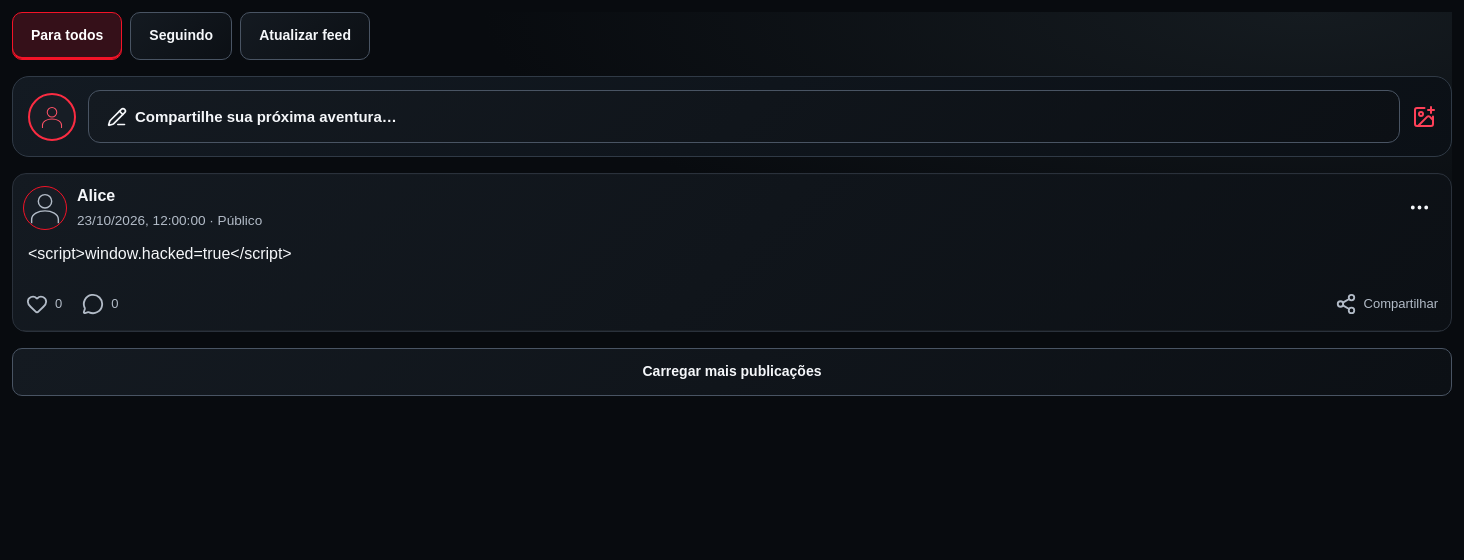
cursor pagination deduplicates overlapping posts and ends the list
Click the button "Carregar mais publicações": point(732, 372) [12,348,1452,396]
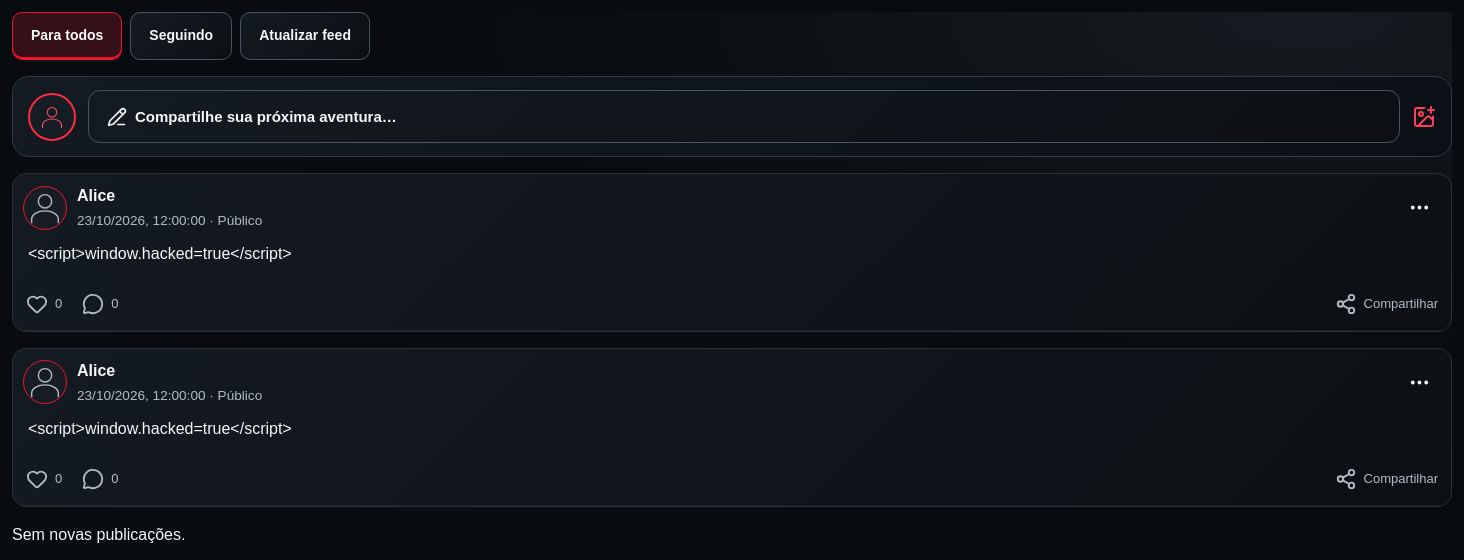
Result: the text "Sem novas publicações." is shown at [12,526,185,543]
